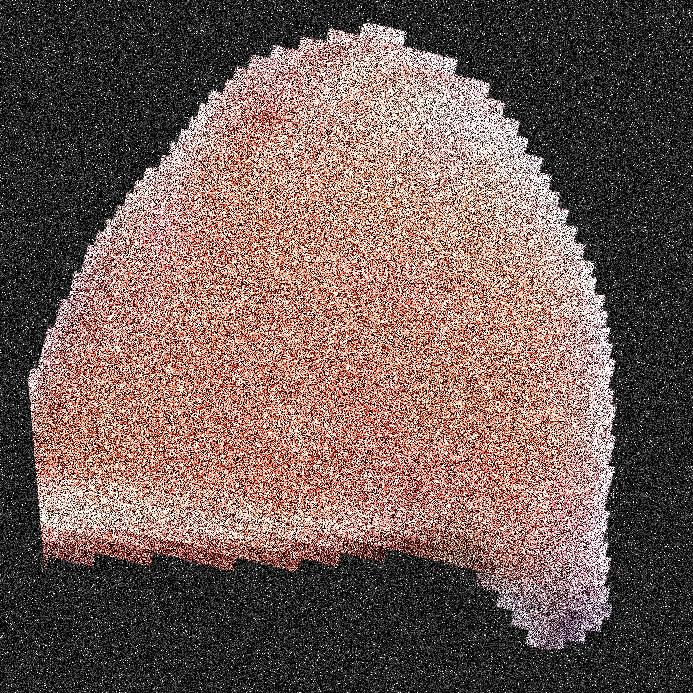Capacete: (83, 0, 560, 692)
